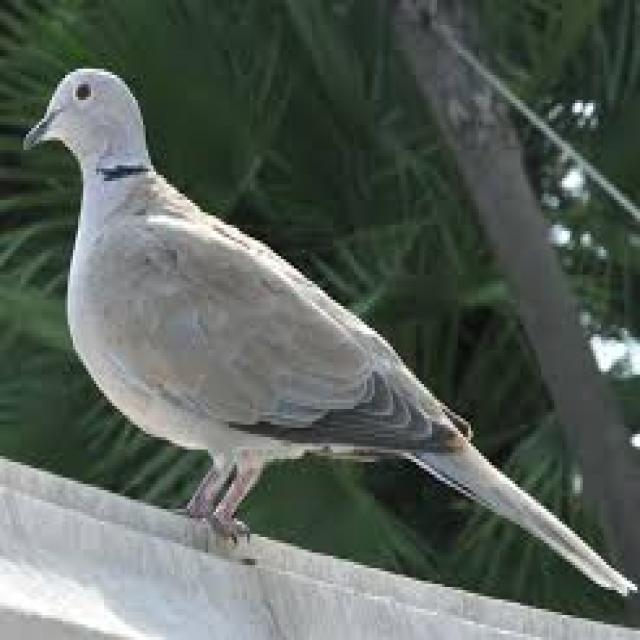pigeon: (13, 31, 640, 640)
